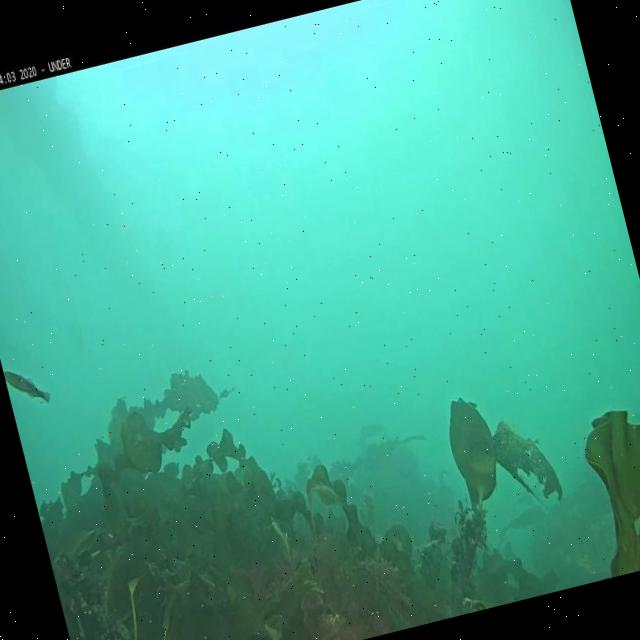fish: (2, 358, 50, 409)
